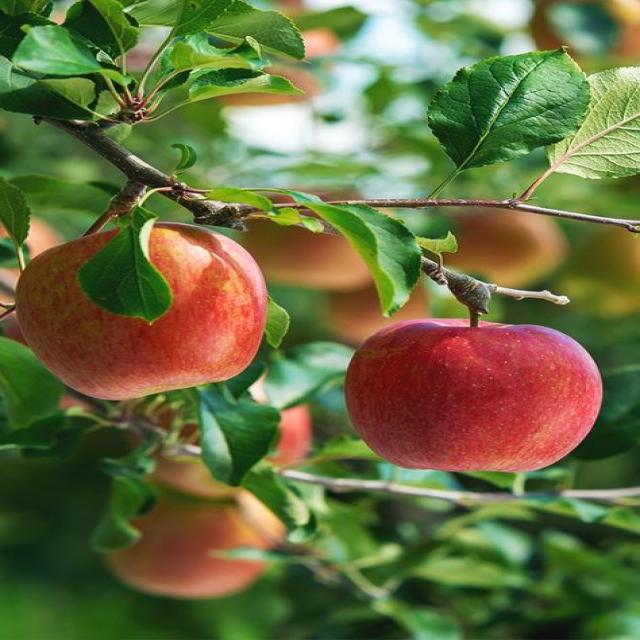Tao: (19, 228, 271, 402), (342, 326, 596, 474), (101, 451, 288, 598)
